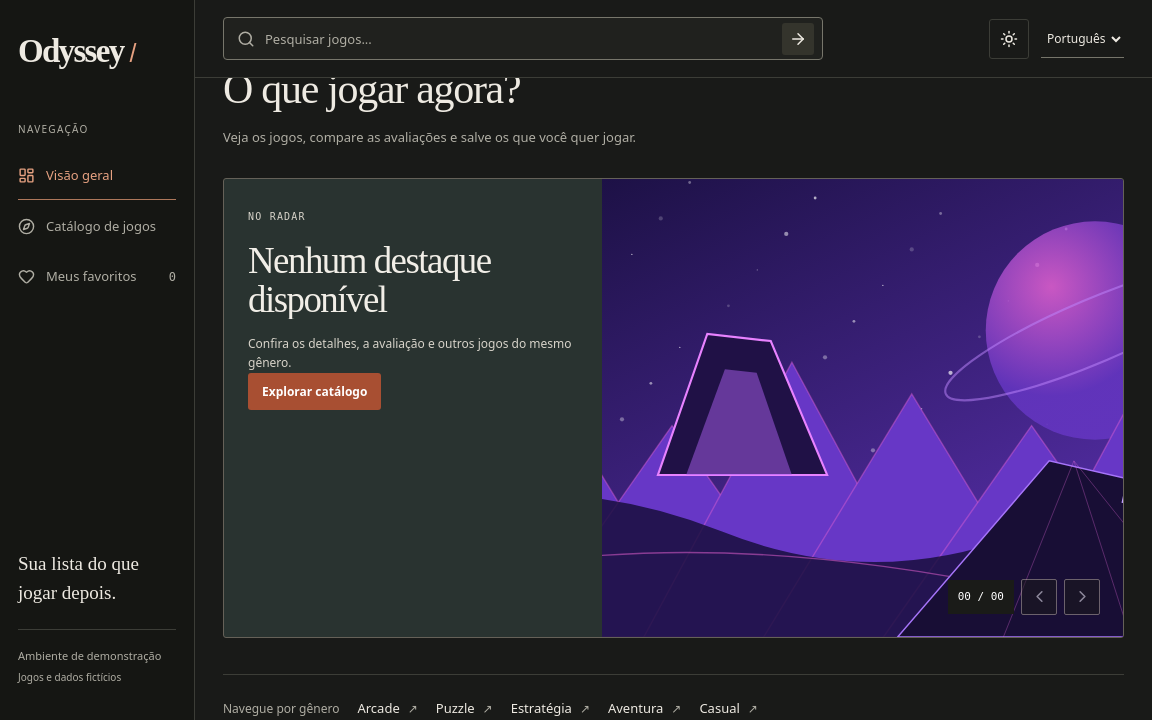
Odyssey › mostra falha nas sugestões e permite pesquisar no catálogo
(page scrolled)
Type "portal" into the dropdown labelled "Pesquisar jogos" at (518, 38), box [265,18,772,59]
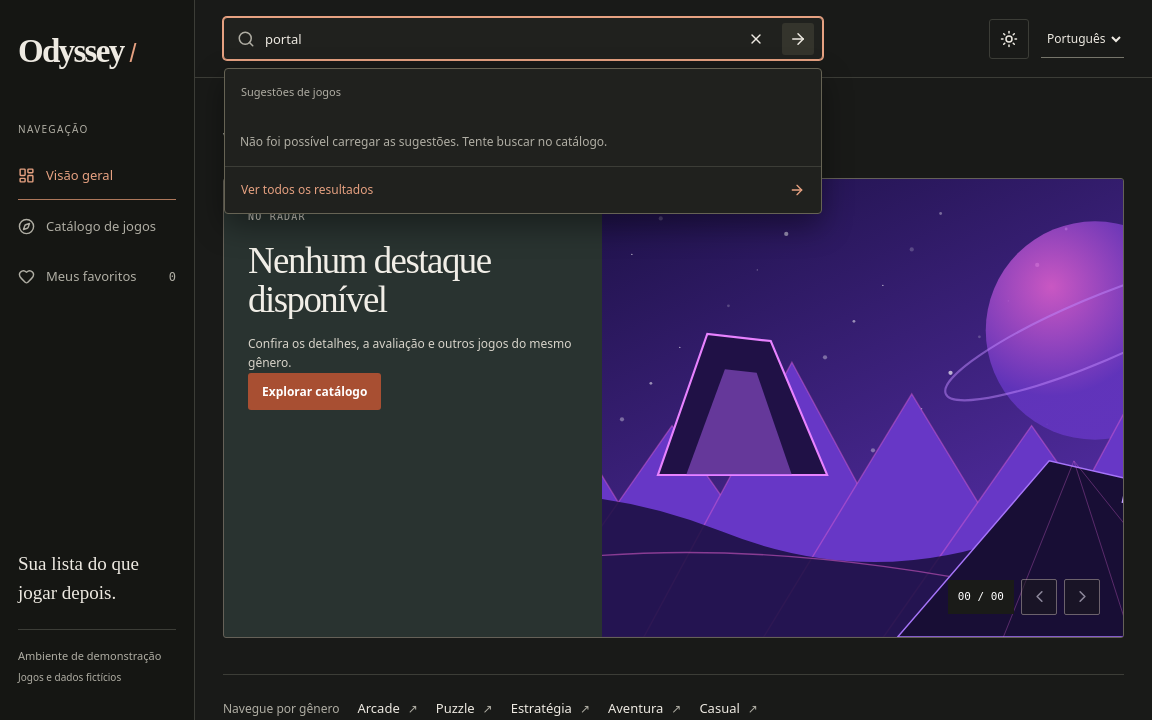
Expected: the text "Não foi possível carregar as sugestões. Tente buscar no catálogo." is shown, [240,132,607,150]
Press Enter
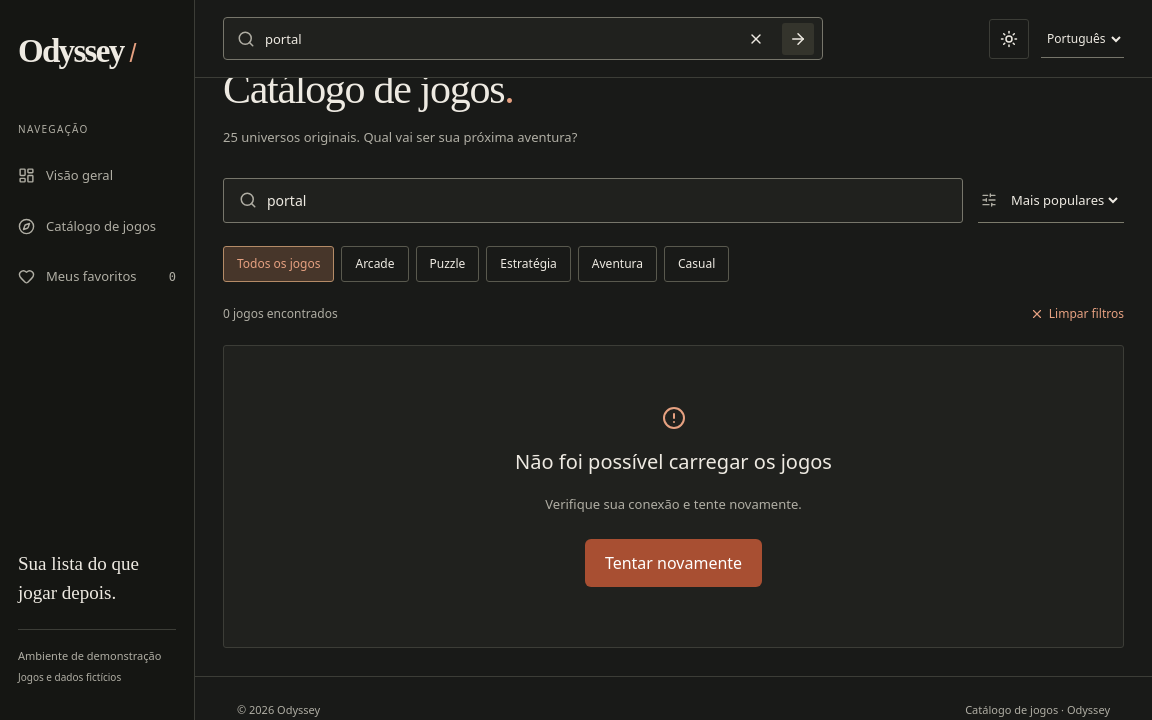
Expected: the heading "Catálogo de jogos." is shown, [223,66,513,112]
